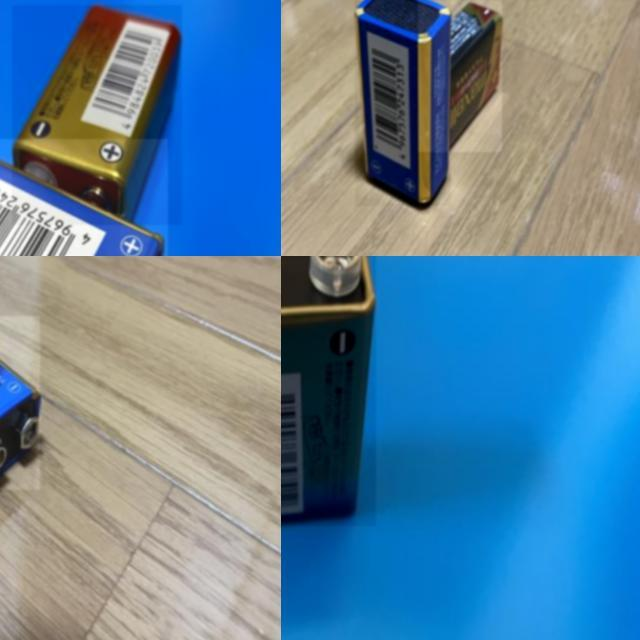9V: (13, 5, 183, 226), (281, 256, 375, 526), (0, 138, 168, 256), (355, 0, 451, 206), (418, 0, 502, 152), (0, 315, 40, 490)
